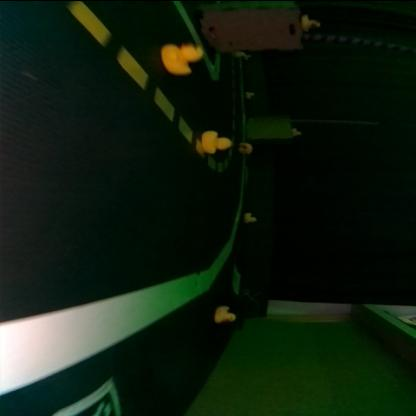Duckie: (162, 42, 204, 73), (202, 129, 232, 150), (301, 13, 322, 29), (216, 305, 236, 321), (239, 140, 253, 152), (244, 212, 258, 221), (294, 127, 302, 134)
QR code: (51, 376, 123, 414)
